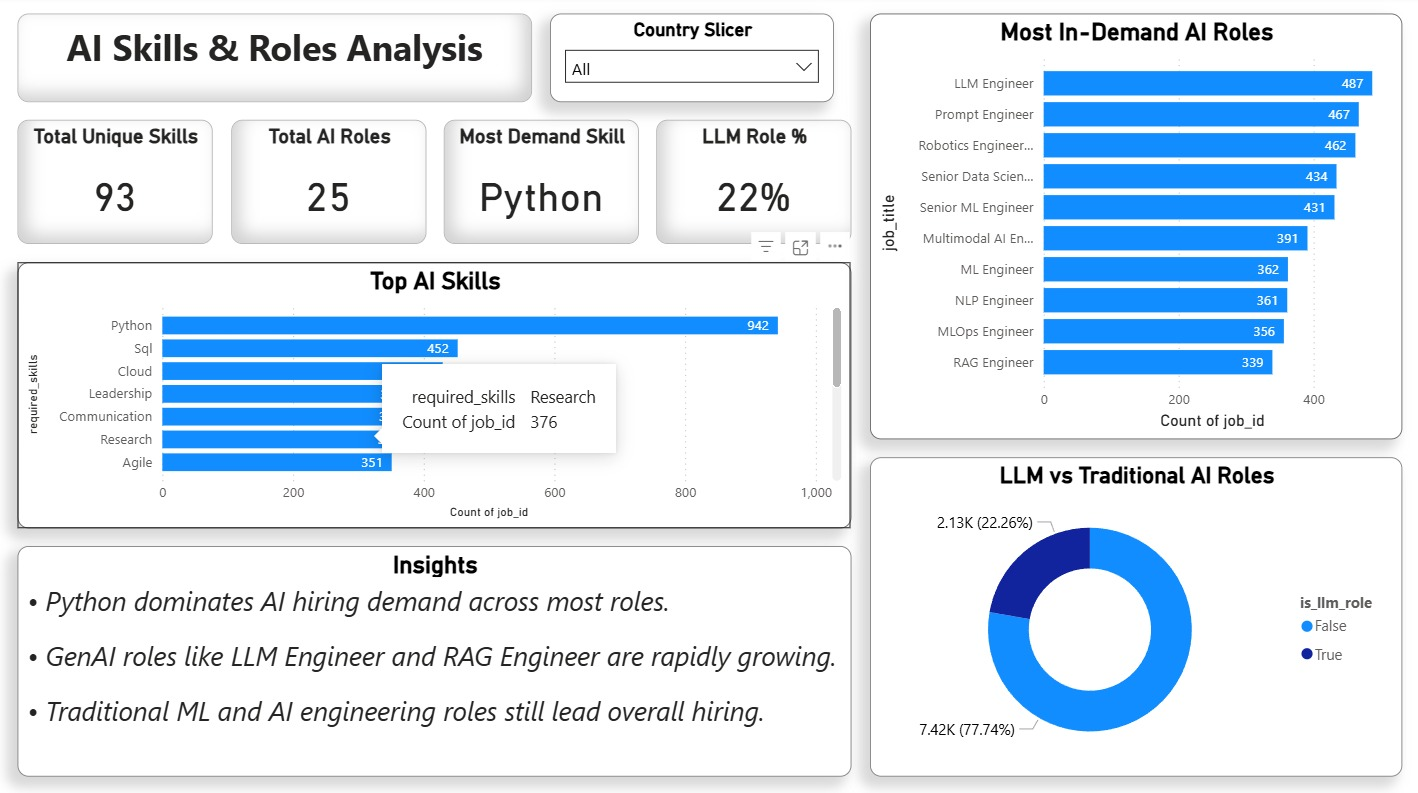

Layout of this report page (visuals, bound fields, positions):
{"tool":"powerbi","page":{"name":"Skills & Roles","canvas":[1280,720],"ordinal":2},"visuals":[{"type":"textbox","box":[16,16,464,80],"z":0},{"type":"card","title":"Total Unique Skills","fields":{"Values":["Measures (2).Total Unique Skills"]},"box":[16,112,176,112],"z":1000},{"type":"card","title":"Total AI Roles","fields":{"Values":["Measures (2).Total AI Roles"]},"box":[208,112,176,112],"z":2000},{"type":"card","title":"Most Demand Skill","fields":{"Values":["Measures (2).Most Demanded Skill"]},"box":[400,112,176,112],"z":3000},{"type":"card","title":"LLM Role %","fields":{"Values":["Measures (2).LLM Role %"]},"box":[592,112,176,112],"z":4000},{"type":"clusteredBarChart","title":"Top AI Skills","fields":{"Category":["Skills Table.required_skills"],"Y":["CountNonNull(Skills Table.job_id)"]},"box":[16,240,752,240],"z":5000},{"type":"clusteredBarChart","title":"Most In-Demand AI Roles","fields":{"Category":["Skills Table.job_title"],"Y":["CountNonNull(Skills Table.job_id)"]},"box":[784,16,480,384],"z":6000},{"type":"donutChart","title":"LLM vs Traditional AI Roles","fields":{"Category":["AI JOBS.is_llm_role"],"Y":["CountNonNull(Skills Table.job_id)"]},"box":[784,416,480,288],"z":7000},{"type":"slicer","title":"Country Slicer","fields":{"Values":["AI JOBS.country"]},"box":[496,16,256,80],"z":8000},{"type":"textbox","title":"Insights","box":[16,496,752,208],"z":10000}]}

Visuals, with their boxes in screenshot pixels (x1, y1, x2, y2), scaled from the page's 1280x720 canvas onto the 1418x793 screenshot:
textbox: bbox=(18, 18, 532, 106)
"Total Unique Skills" card: bbox=(18, 123, 213, 247)
"Total AI Roles" card: bbox=(230, 123, 425, 247)
"Most Demand Skill" card: bbox=(443, 123, 638, 247)
"LLM Role %" card: bbox=(656, 123, 851, 247)
"Top AI Skills" clusteredBarChart: bbox=(18, 264, 851, 529)
"Most In-Demand AI Roles" clusteredBarChart: bbox=(869, 18, 1400, 441)
"LLM vs Traditional AI Roles" donutChart: bbox=(869, 458, 1400, 775)
"Country Slicer" slicer: bbox=(549, 18, 833, 106)
"Insights" textbox: bbox=(18, 546, 851, 775)
